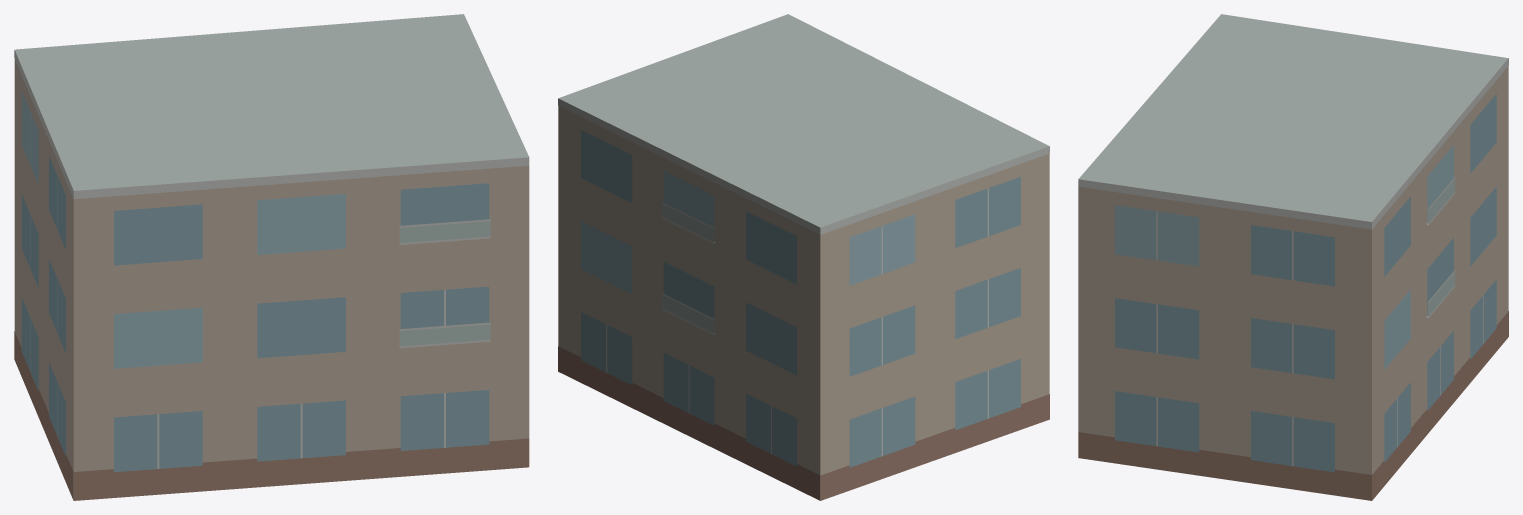
The model's file is survey-upis-32720686.glb.
3 views of the same model, side by side, from view 1: azimuth 30°, elevation 25°; view 2: azimuth 150°, elevation 25°; view 3: azimuth 270°, elevation 25° (orthographic). The views are drawn at different scales.
Visible parts, largest first — view 1: survey-upis-32720686.tmp; view 2: survey-upis-32720686.tmp; view 3: survey-upis-32720686.tmp.
Part boxes in pixels (x1,y1,x2,y2): survey-upis-32720686.tmp: (14, 14, 529, 500); survey-upis-32720686.tmp: (558, 14, 1049, 500); survey-upis-32720686.tmp: (1078, 14, 1508, 500).
Size of the model in its own units: 14.66 by 9.15 by 12.81.
